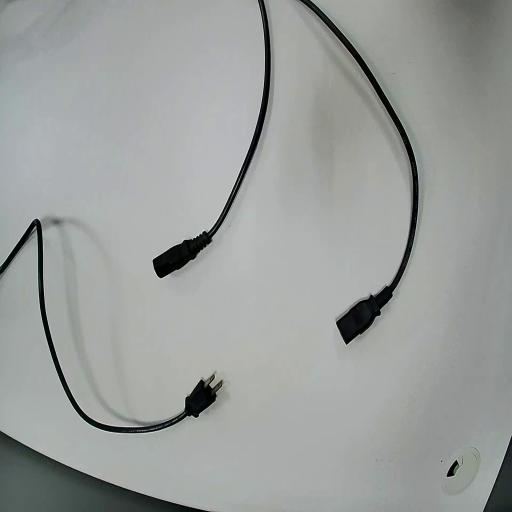wire: (0, 220, 215, 431), (301, 0, 417, 342), (154, 0, 269, 276)
